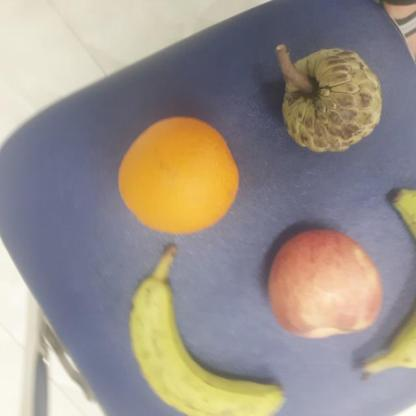annona: (280, 47, 384, 156)
apple: (267, 227, 384, 340)
banana: (133, 276, 286, 416), (384, 184, 416, 374)
orange: (116, 117, 241, 237)
